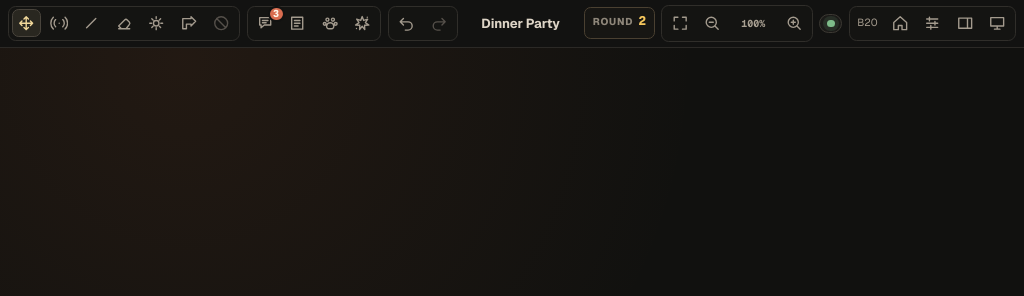
Test case: BattleMapCommandBar › opens the combat log from the top row
Expected: the element "Combat Log" is not shown
Click the button named "Combat Log". click: (298, 23)
box: [283, 9, 312, 37]
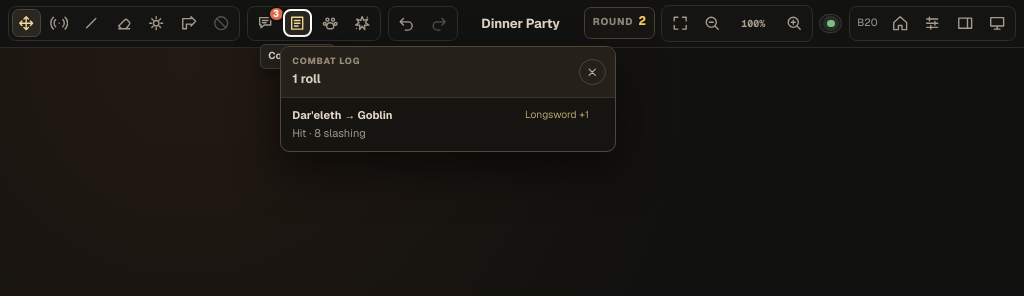
Result: the element with class "combat-log-scroll" is shown at [281, 98, 615, 151]
Result: the element "Combat Log" shows "Dar'eleth → Goblin" at [280, 46, 616, 152]
Result: the element "Combat Log" shows "8 slashing" at [306, 126, 366, 140]
